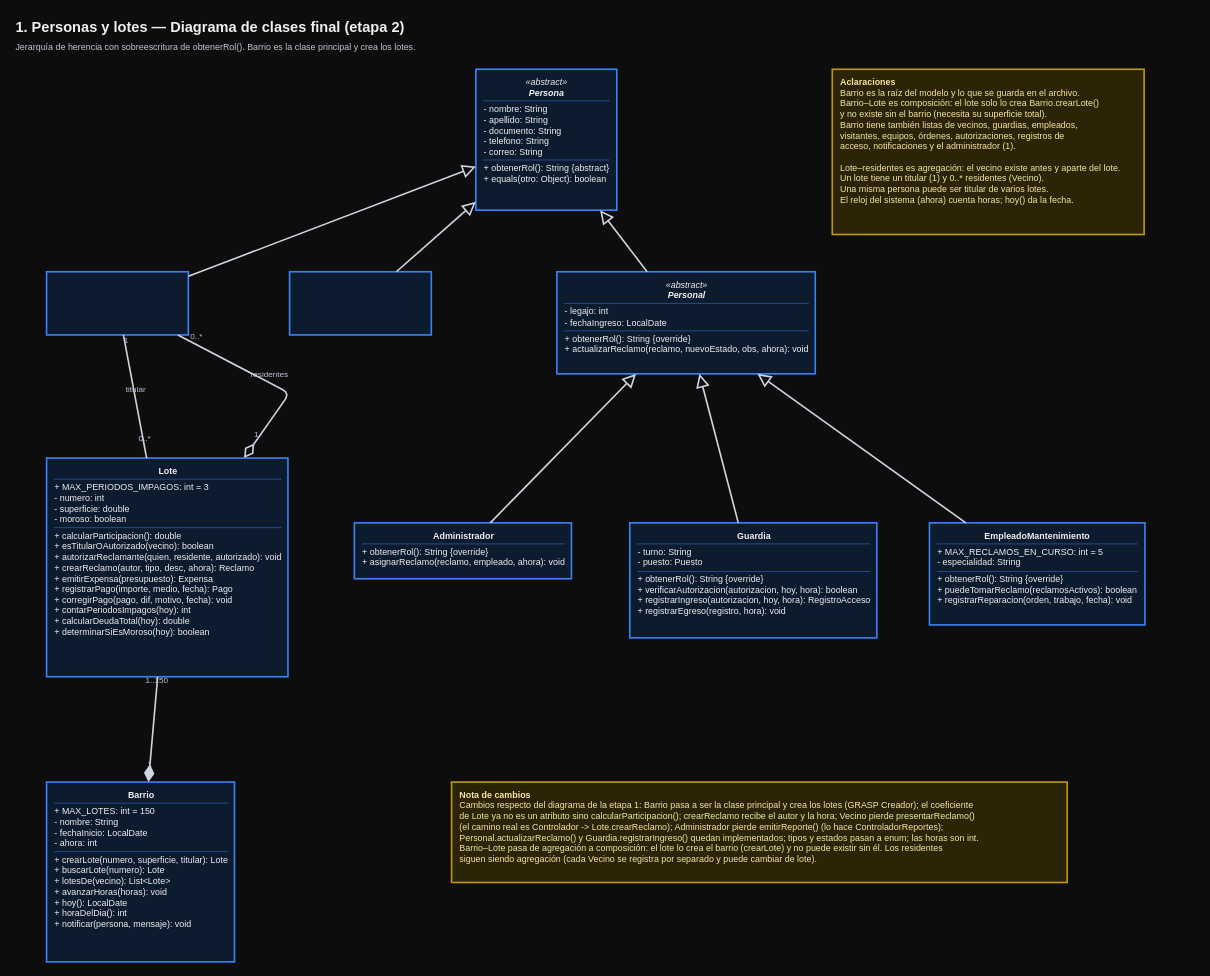
This 1210x976 diagram has some shape labels left out. The shapes that lost their labels are listed below. From the top down, each one's box as (x1, y1, x2, y2) in pixels, then its label:
(45, 271, 189, 335): Vecino - autorizadoReclamos: boolean + obtenerRol(): String {override}
(288, 271, 432, 335): Visitante - tipo: TipoVisitante + obtenerRol(): String {override}
